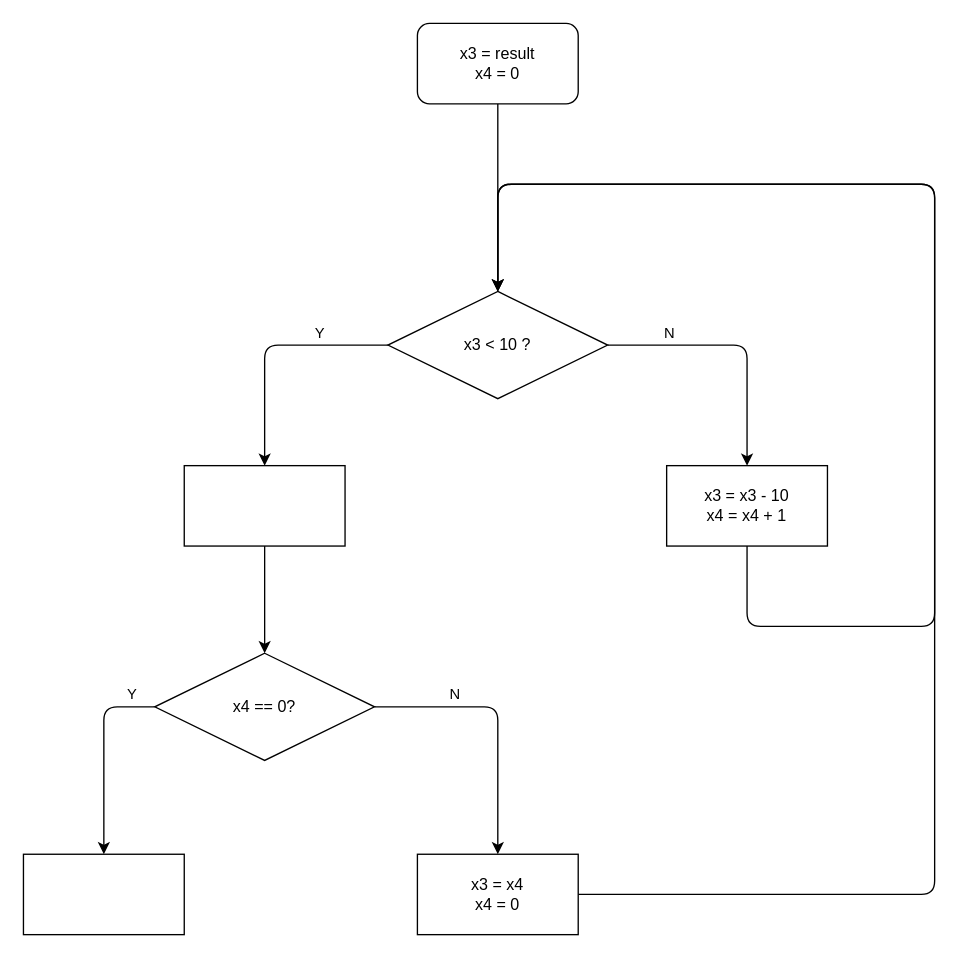
The diagram is 969 pixels wide and 958 high, and some of its shapes have lost their labels. Each missing label, with the centre of its shape:
"Done" belongs at point (103, 894).
"sw x3 0(x0)" belongs at point (264, 505).
